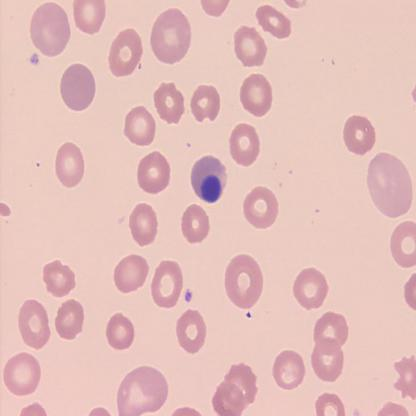NRC: (188, 154, 230, 205)
